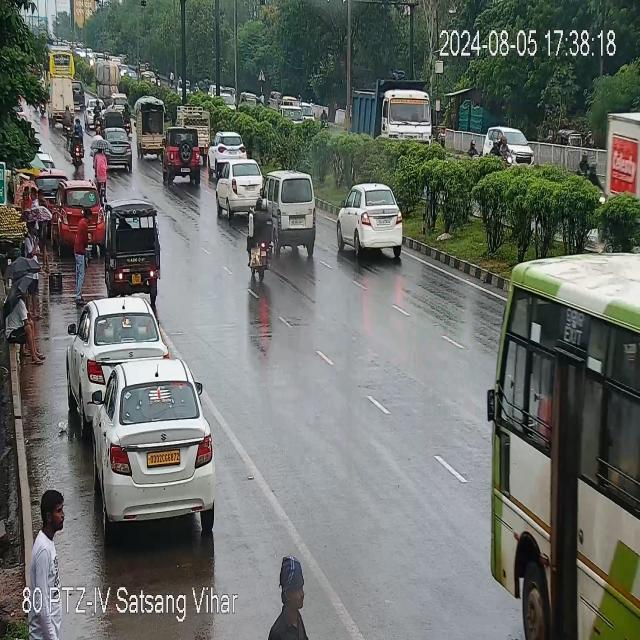2-wheelers: (246, 201, 278, 280), (68, 120, 88, 168), (95, 144, 108, 195), (122, 102, 133, 135), (93, 100, 102, 130)
auto: (103, 204, 166, 296), (137, 102, 166, 157), (303, 101, 319, 132), (106, 108, 124, 128), (239, 89, 257, 106)
bus: (489, 293, 640, 636), (605, 90, 640, 210), (370, 88, 434, 152), (49, 50, 76, 79)
car: (78, 358, 218, 532), (70, 296, 165, 416), (337, 185, 406, 261), (264, 174, 324, 258), (56, 184, 104, 245), (215, 162, 265, 218), (166, 128, 207, 184), (94, 128, 136, 168), (212, 129, 253, 154), (107, 90, 125, 110), (85, 96, 94, 124)
pedestrian: (29, 490, 72, 590), (276, 561, 316, 640), (5, 291, 46, 360), (32, 192, 55, 272), (78, 198, 90, 286)
truck: (48, 79, 78, 125), (175, 106, 212, 132), (276, 98, 302, 131)
